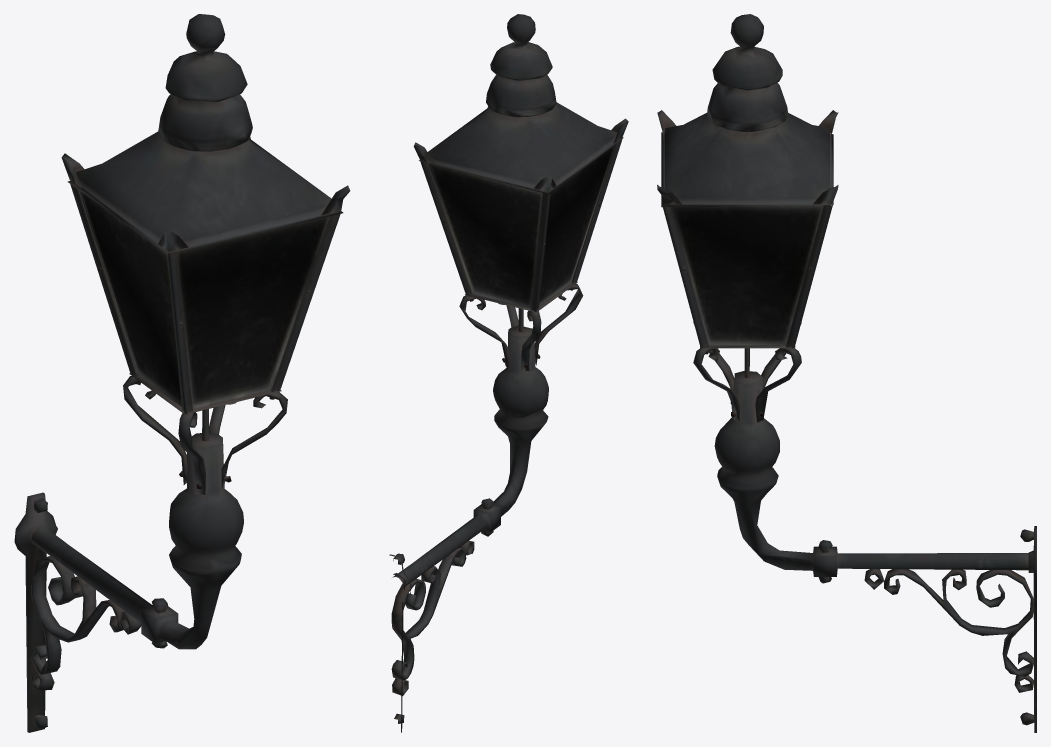
Rendered from laterne_hafen.glb.
3 renders of one model, left to right at view 1: azimuth 30°, elevation 25°; view 2: azimuth 150°, elevation 25°; view 3: azimuth 270°, elevation 25°, orthographic. The views are drawn at different scales.
Parts seen in each view (by area): view 1: street_lamp_02; view 2: street_lamp_02; view 3: street_lamp_02.
Boxes of the visible parts, bbox=[...] form: street_lamp_02: bbox=[14, 14, 350, 732]; street_lamp_02: bbox=[389, 14, 628, 732]; street_lamp_02: bbox=[657, 14, 1036, 732].
Size of the model in its own units: 0.3848 by 1.67 by 0.8054.
Materials: 1 (1 with a texture image).
